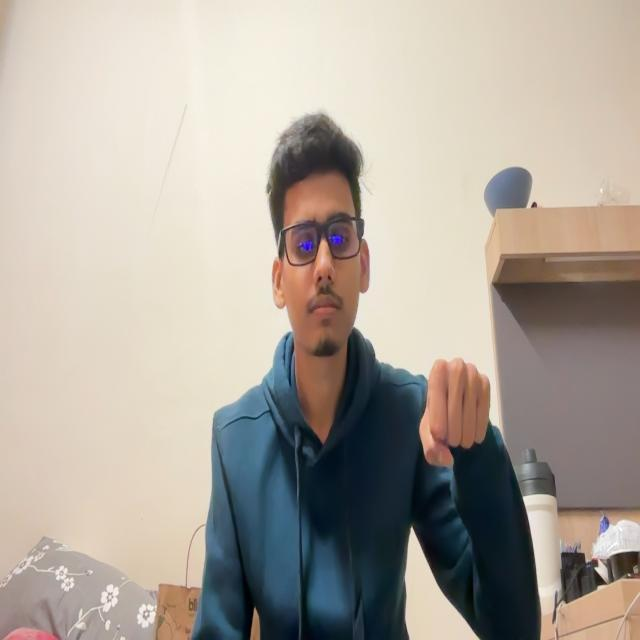Yes: (398, 328, 508, 488)
